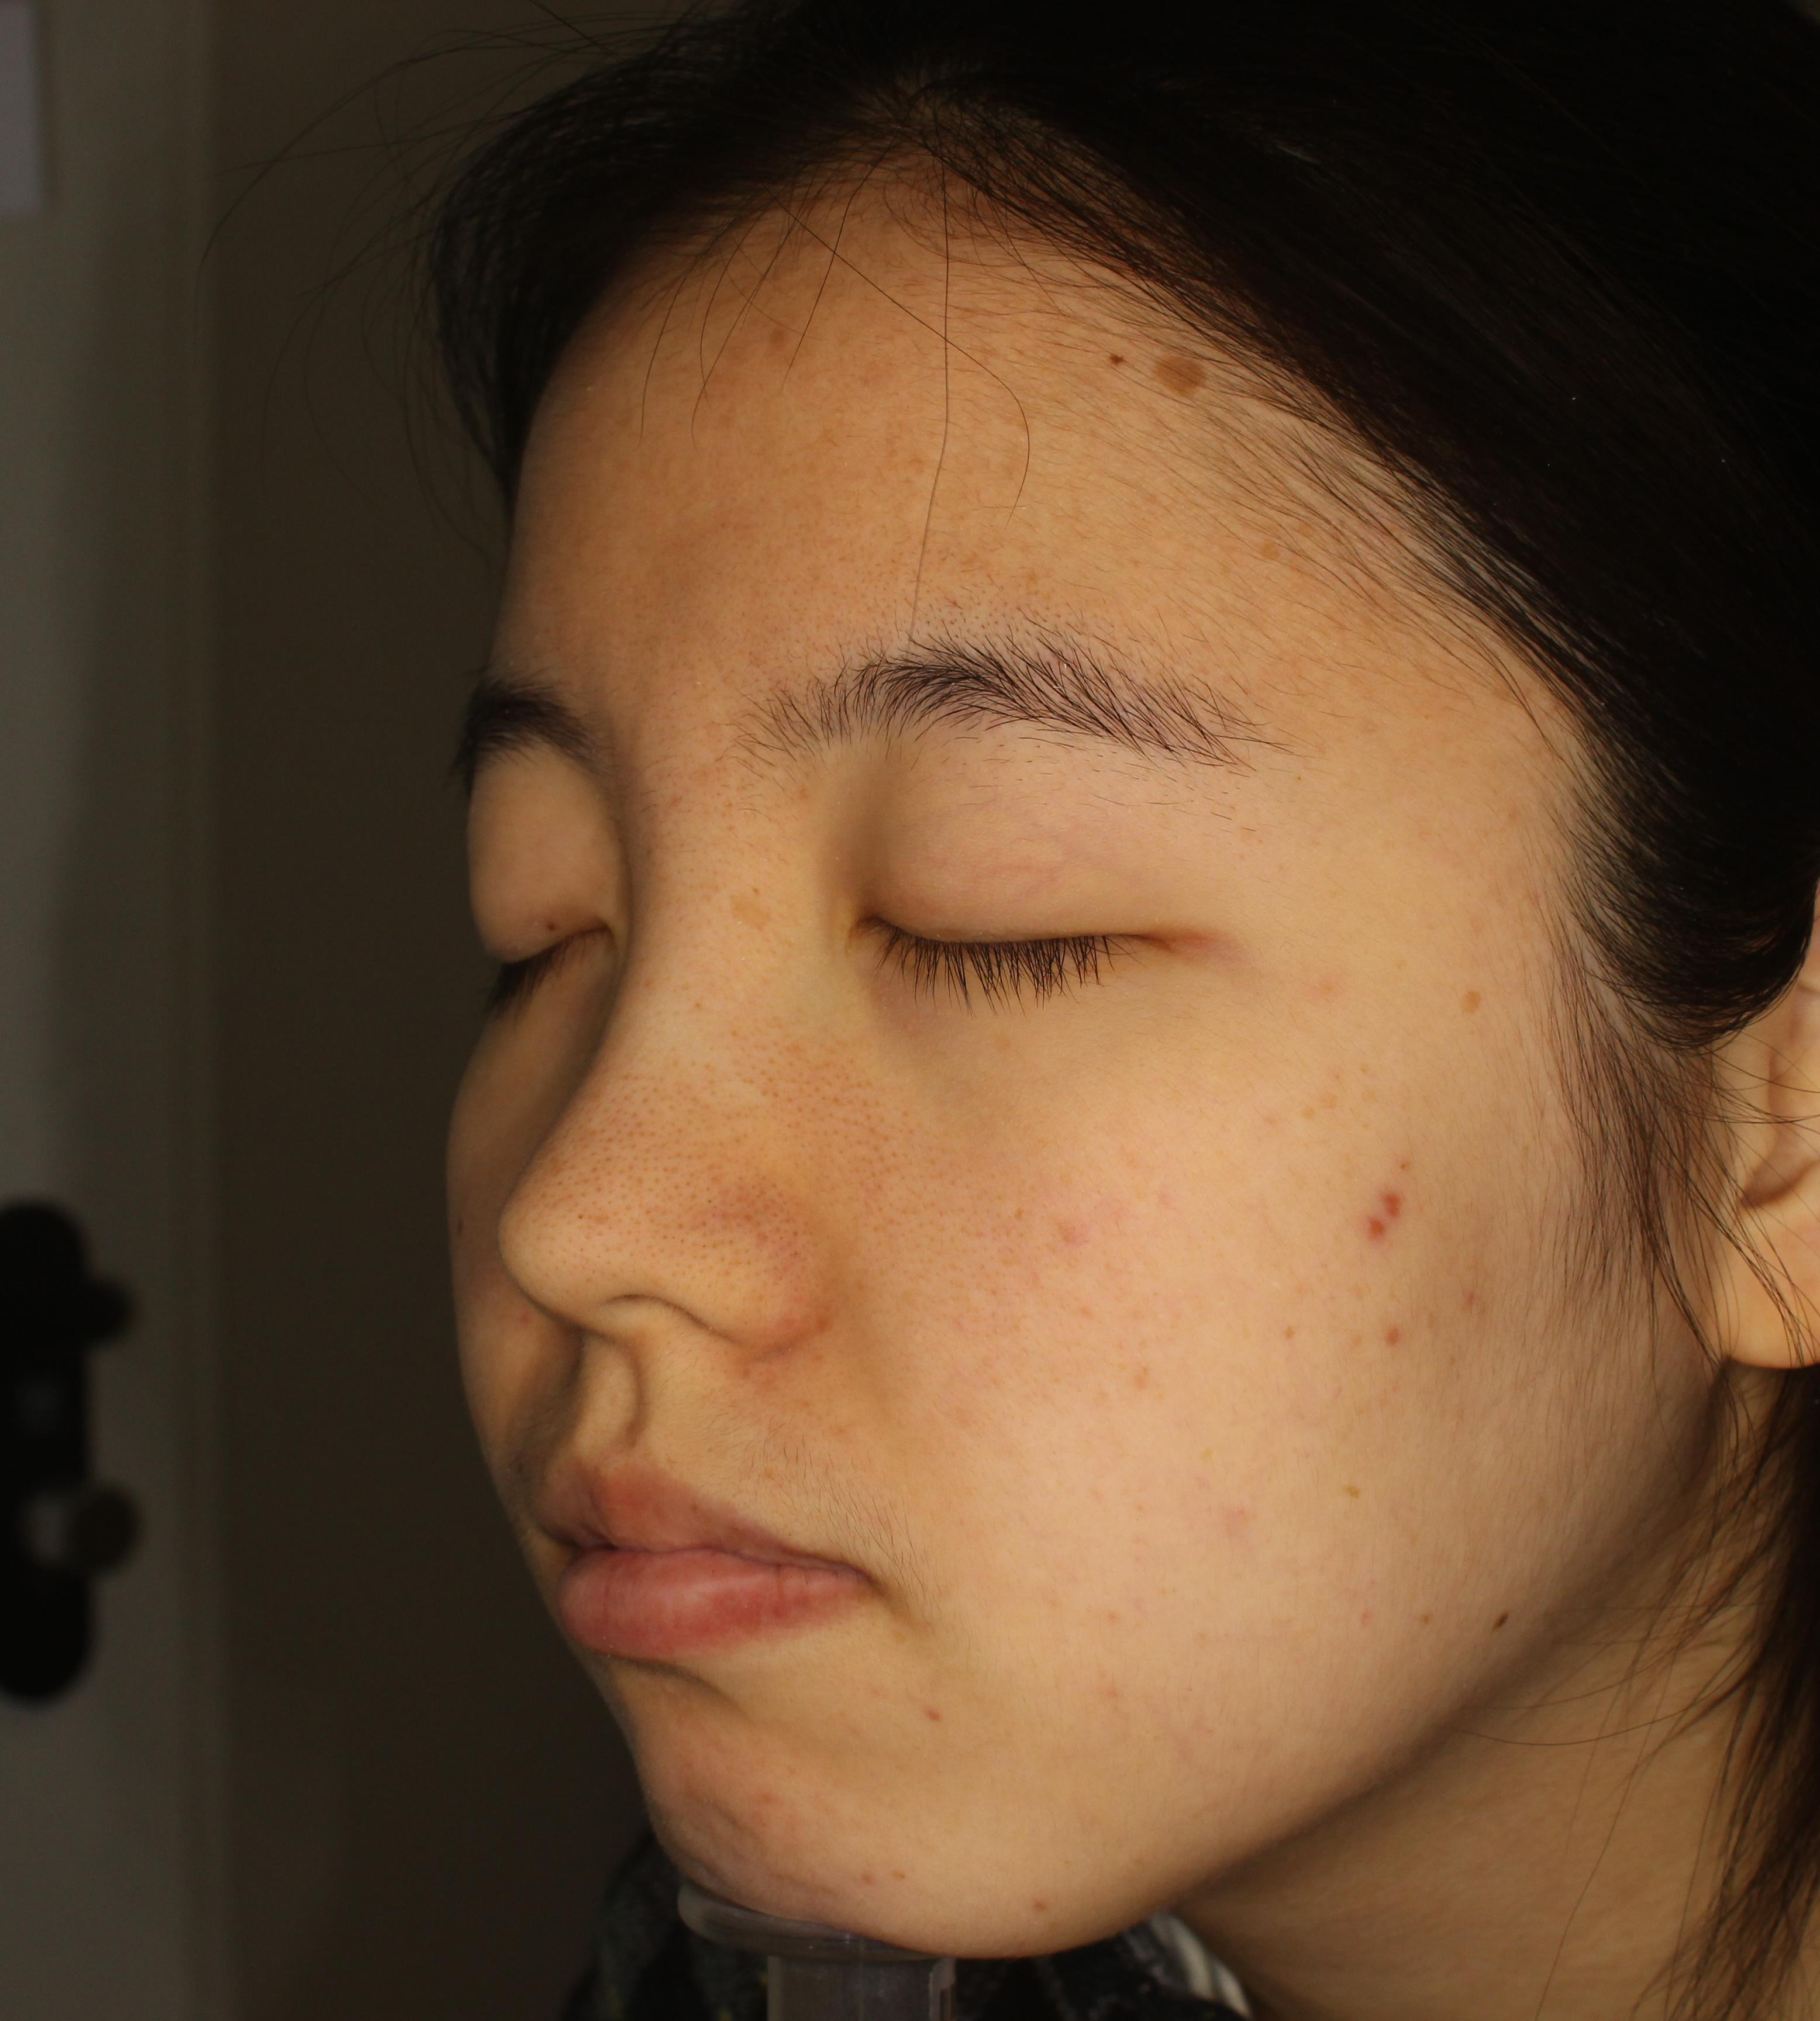fore: (1354, 1176, 1426, 1254)
